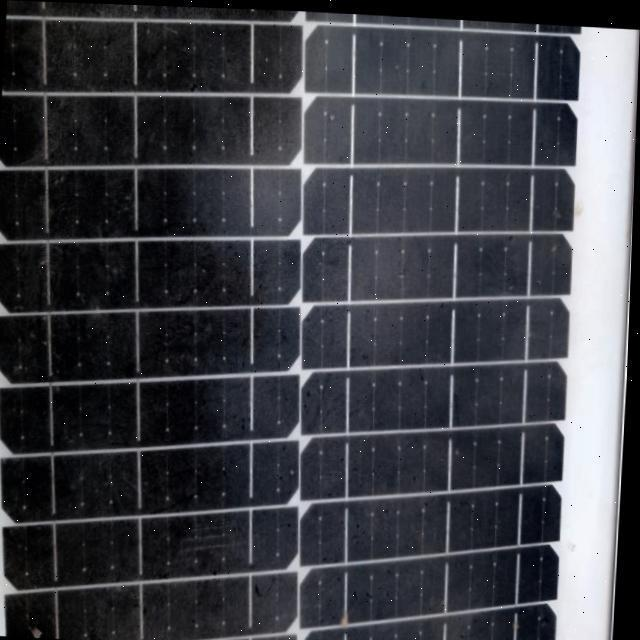Surface Contaminant: (12, 1, 616, 640)
